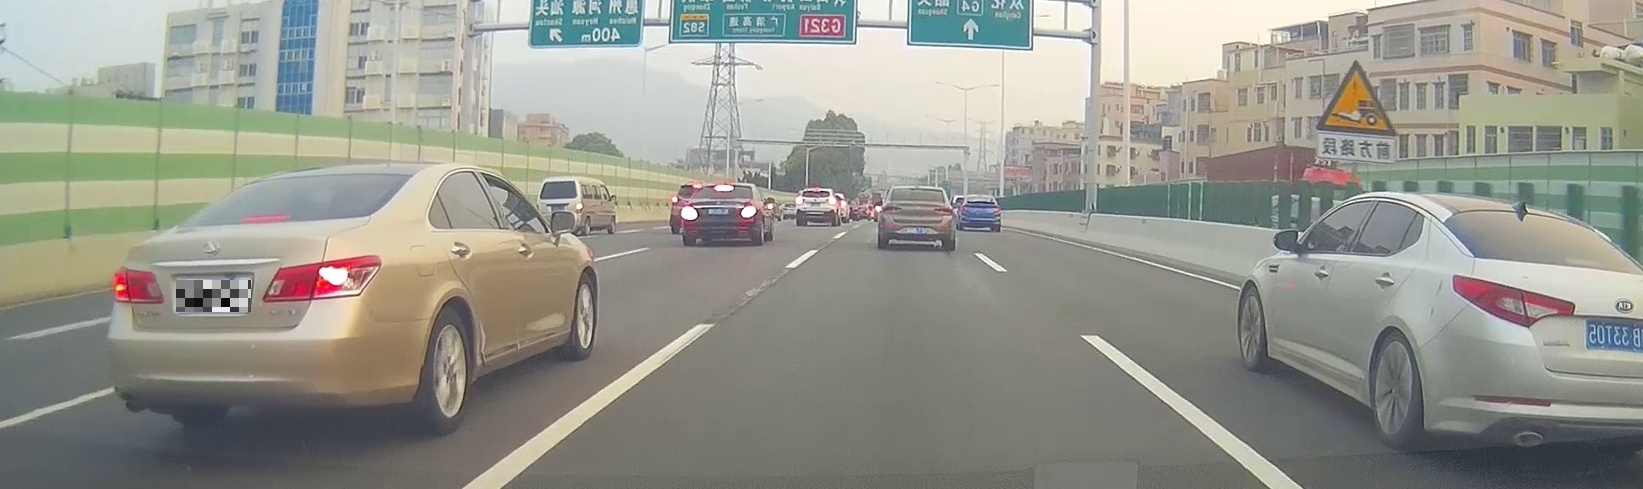L_light: (113, 266, 165, 304), (683, 206, 698, 220), (883, 206, 901, 213), (796, 198, 804, 204), (960, 206, 967, 212)
R_light: (264, 254, 381, 302), (741, 205, 757, 218), (933, 207, 952, 214), (828, 198, 835, 204), (993, 207, 1000, 213)
T_light: (240, 214, 291, 224), (715, 186, 733, 192), (910, 188, 922, 192), (977, 196, 985, 199), (813, 188, 820, 191)
day-brake: (107, 162, 414, 429), (682, 183, 759, 247), (795, 187, 835, 226)
day-no: (878, 186, 954, 250), (959, 195, 1001, 231)
plate_1: (176, 280, 251, 312)
